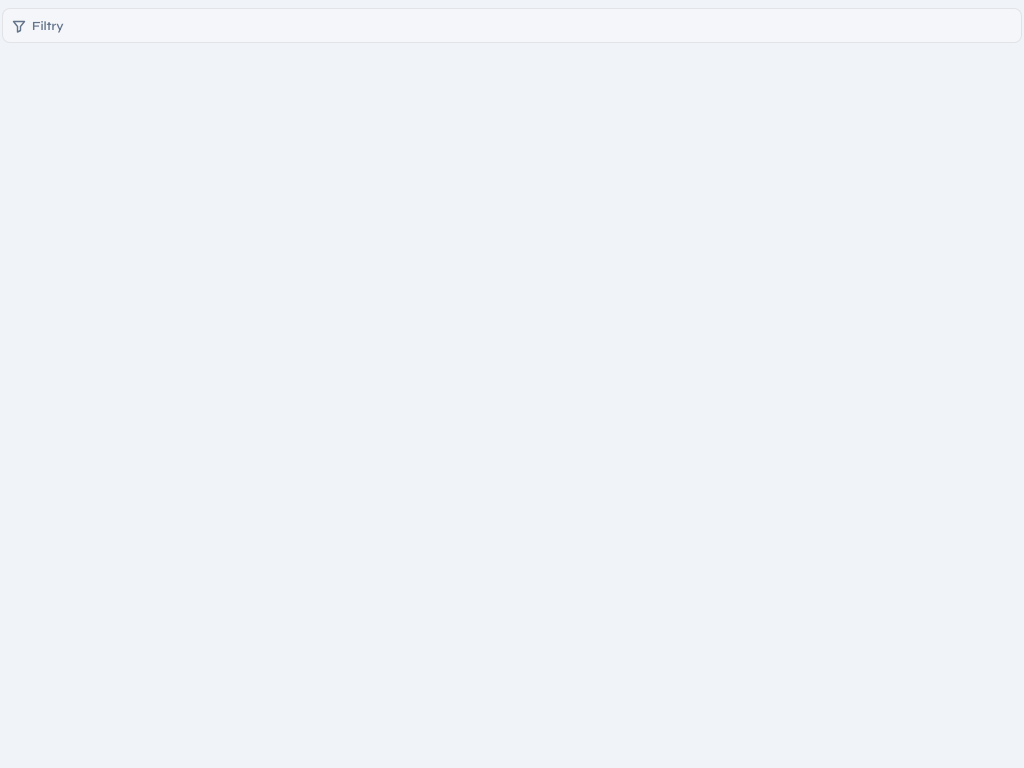
Test case: FiltersPanel — panel typu drawer › panel wysuwa się od prawej i zajmuje całą szerokość ekranu (bez dawnego max-width:440px)
What coordinates should you click on to do the following:
click the button "Filtry"
I would click on:
 (48, 26)
Its box is [2,8,1022,43].
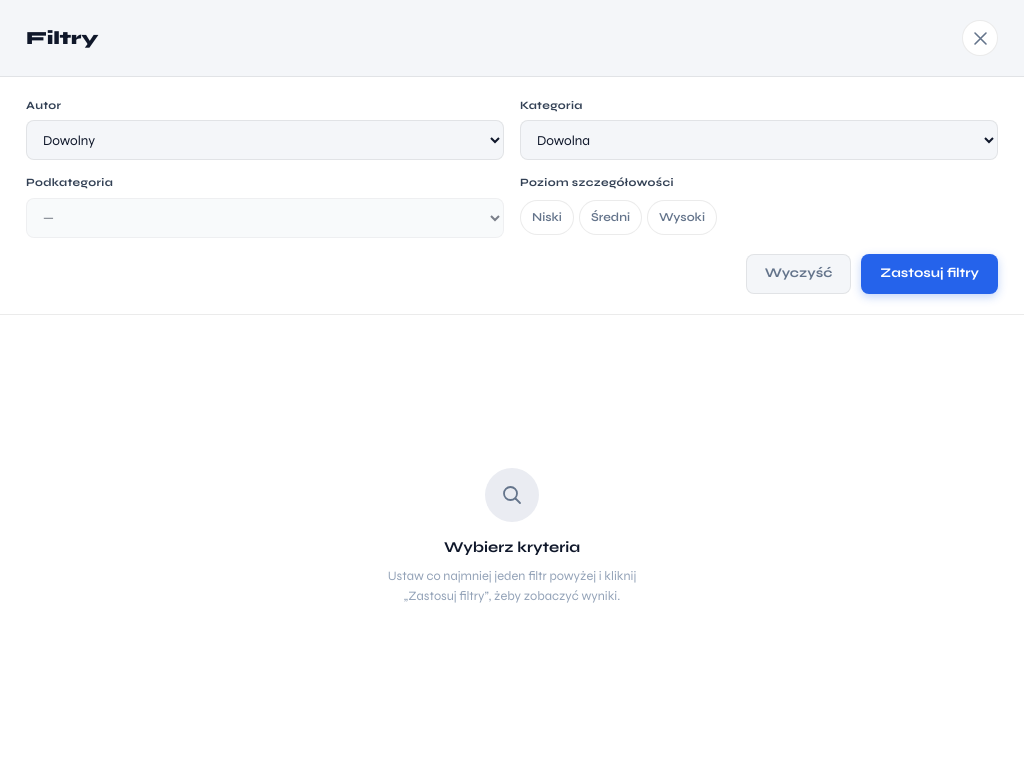
Now the dialog "Filtry" is shown
